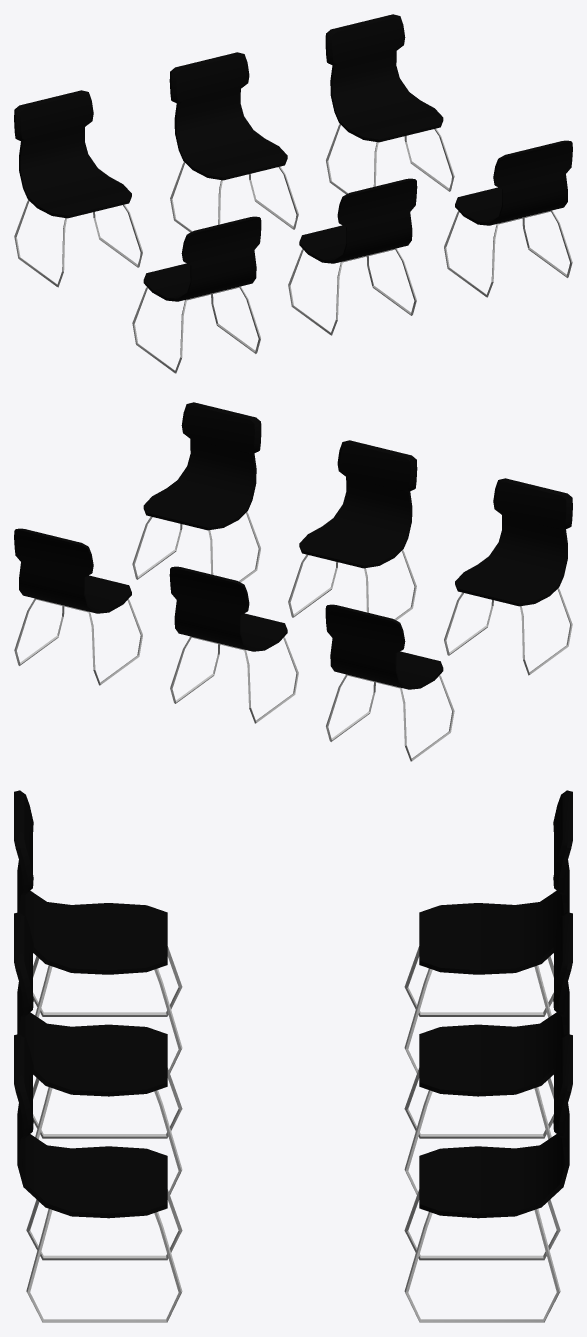
File: Biblioteca_Sillas_Estudio_001.fbx
3 renders of one model, top to bottom at view 1: azimuth 30°, elevation 25°; view 2: azimuth 150°, elevation 25°; view 3: azimuth 270°, elevation 25°, orthographic. The views are drawn at different scales.
Parts seen in each view (by area): view 1: Biblioteca_Sillas_Estudio.001; view 2: Biblioteca_Sillas_Estudio.001; view 3: Biblioteca_Sillas_Estudio.001.
Part boxes in pixels (x1,y1,x2,y2): Biblioteca_Sillas_Estudio.001: (14, 14, 572, 373); Biblioteca_Sillas_Estudio.001: (14, 402, 572, 761); Biblioteca_Sillas_Estudio.001: (14, 790, 572, 1322).
Size of the model in its own units: 287 by 100 by 218.
